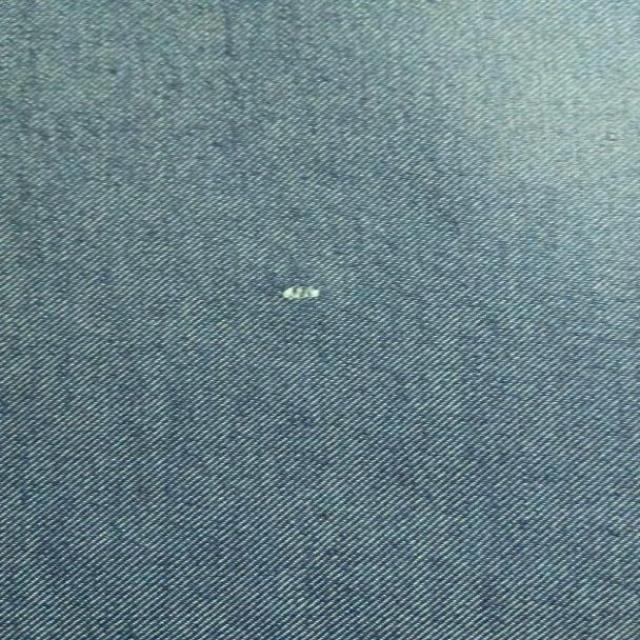Knot: (282, 286, 321, 300)
